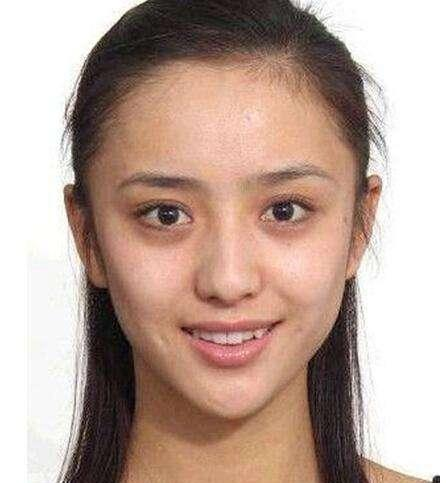unmask: (86, 95, 363, 405)
